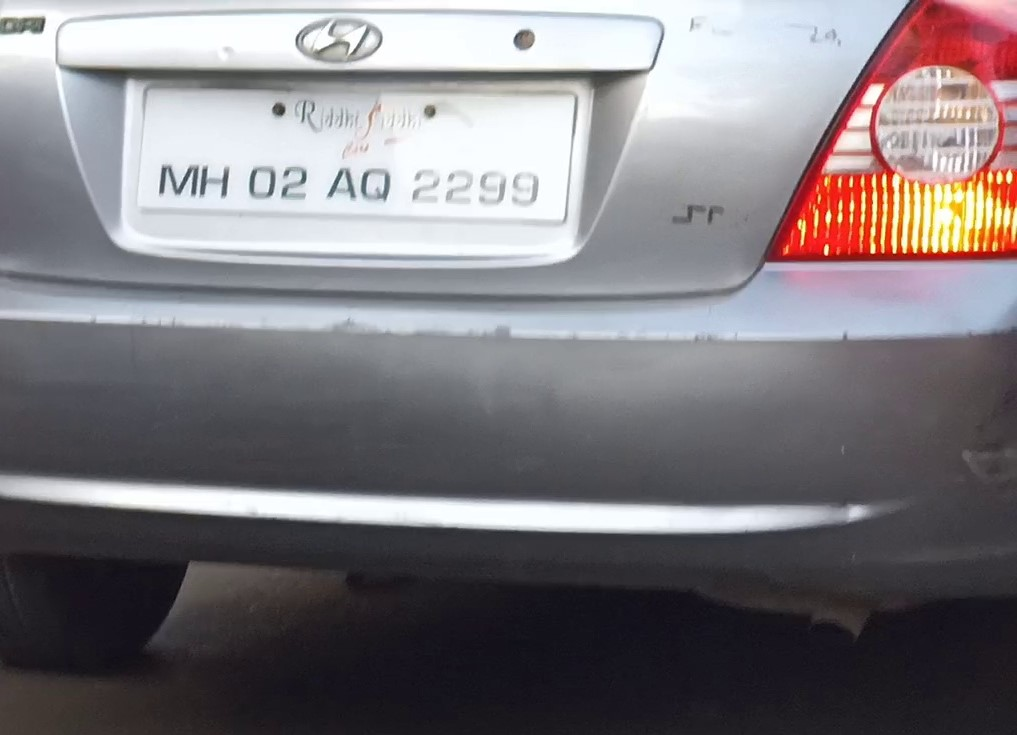MH02AQ2299: (138, 85, 578, 224)
